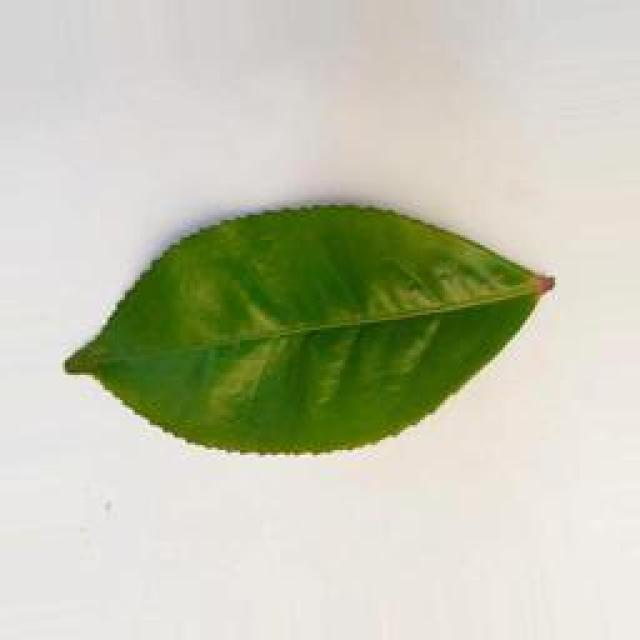Healthy: (61, 196, 568, 458)
